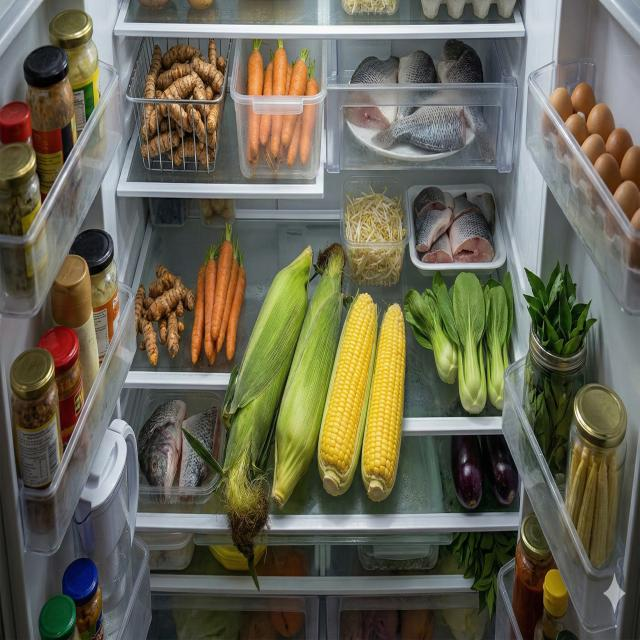carrot: (245, 47, 319, 168), (190, 239, 247, 367)
corn: (180, 242, 406, 594), (567, 450, 618, 568)
curry_leaves: (523, 260, 598, 491)
egg: (541, 81, 640, 268)
eggplant: (450, 434, 519, 510)
fish: (348, 39, 494, 164), (137, 398, 221, 506), (414, 185, 496, 263)
pakchoy: (404, 270, 514, 415)
turmeric: (141, 39, 226, 169), (134, 264, 196, 366)
